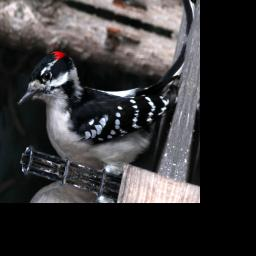Woodpecker: (7, 0, 189, 195)
